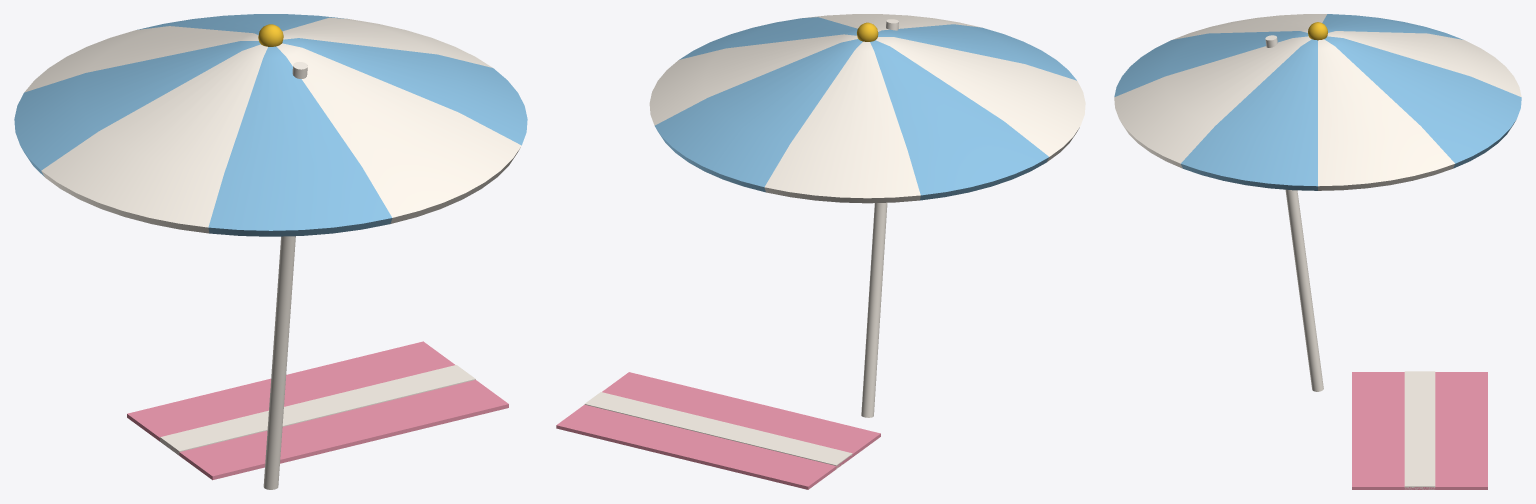
The model's file is beach_umbrella.glb.
The picture shows the model from 3 angles, left to right: view 1: azimuth 30°, elevation 25°; view 2: azimuth 150°, elevation 25°; view 3: azimuth 270°, elevation 25°; orthographic projection. The views are drawn at different scales.
Parts seen in each view (by area): view 1: beach_umbrella; view 2: beach_umbrella; view 3: beach_umbrella.
Boxes of the visible parts, x1,y1,x2,y2 form: beach_umbrella: [14, 14, 527, 489]; beach_umbrella: [556, 14, 1085, 489]; beach_umbrella: [1114, 14, 1521, 489].
Size of the model in its own units: 2.6 by 2.38 by 2.4.
Materials: 1 (1 with a texture image).
